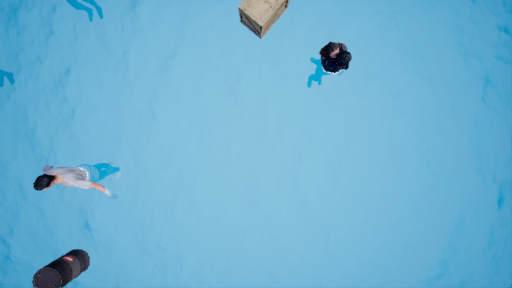person: (30, 159, 127, 202), (301, 41, 353, 93)
